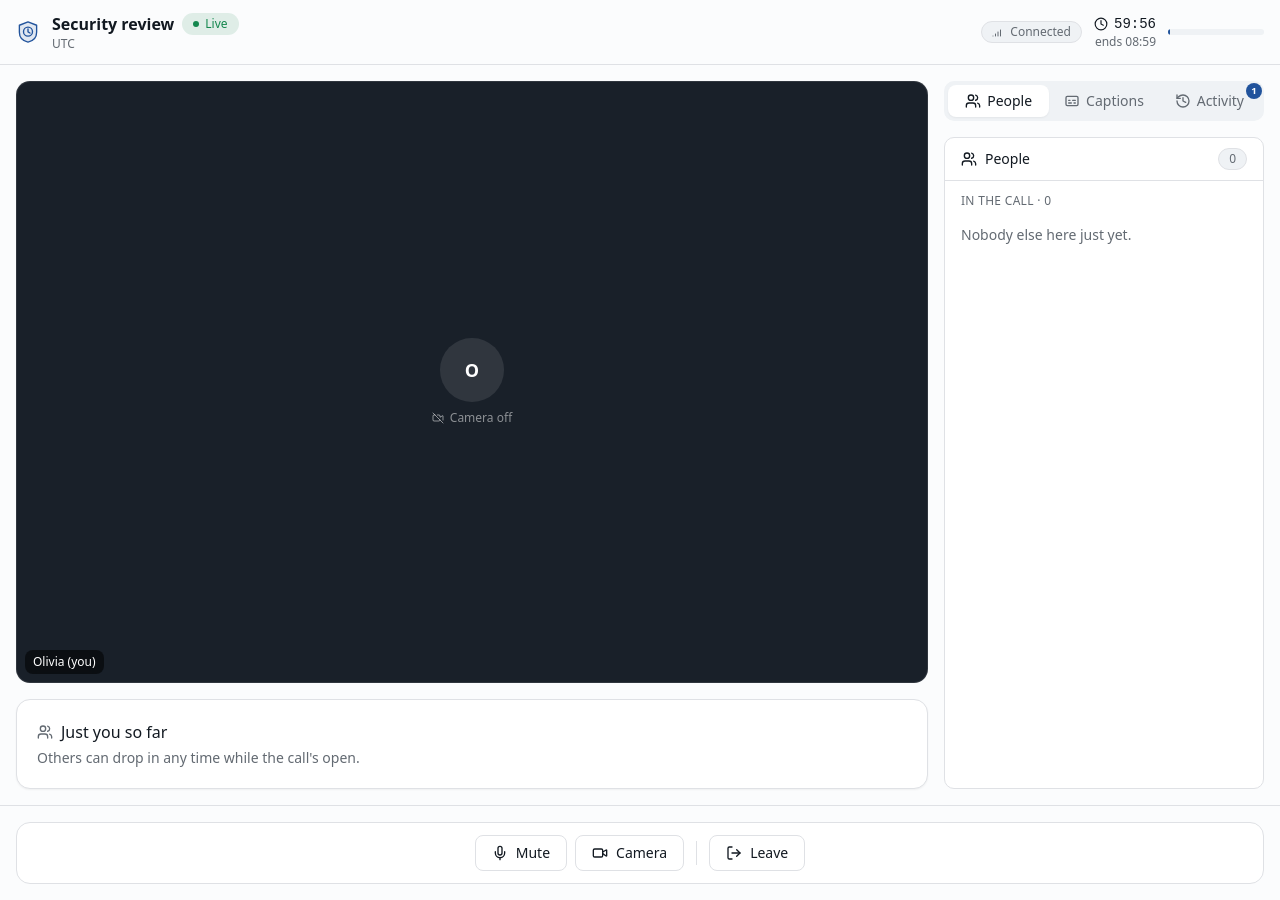
Leaving a call › asks before leaving
Click the button "Leave". click: coordinates (757, 853)
box: left=709, top=835, right=805, bottom=871
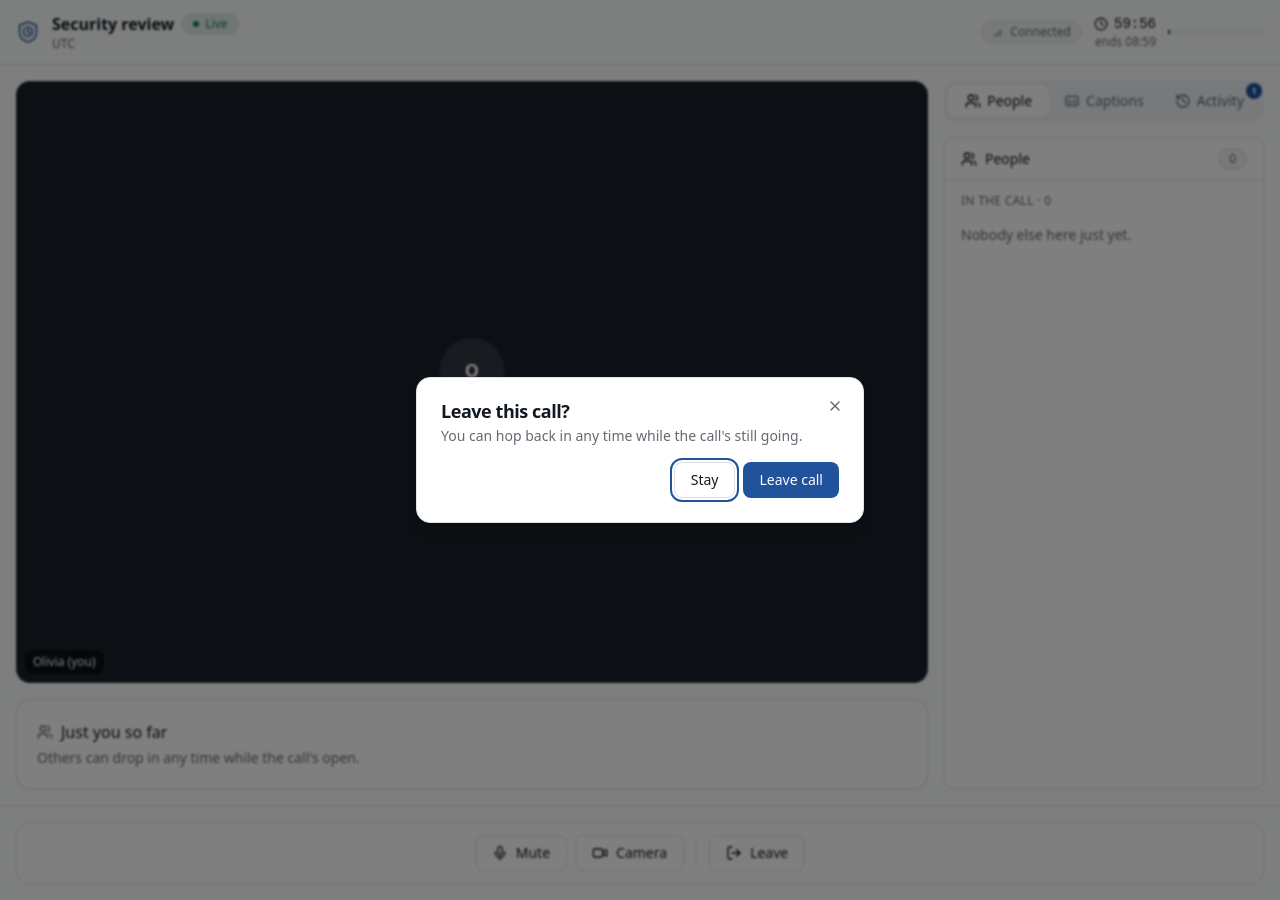
Expected: the dialog shows "Leave this call", left=441, top=399, right=570, bottom=423
